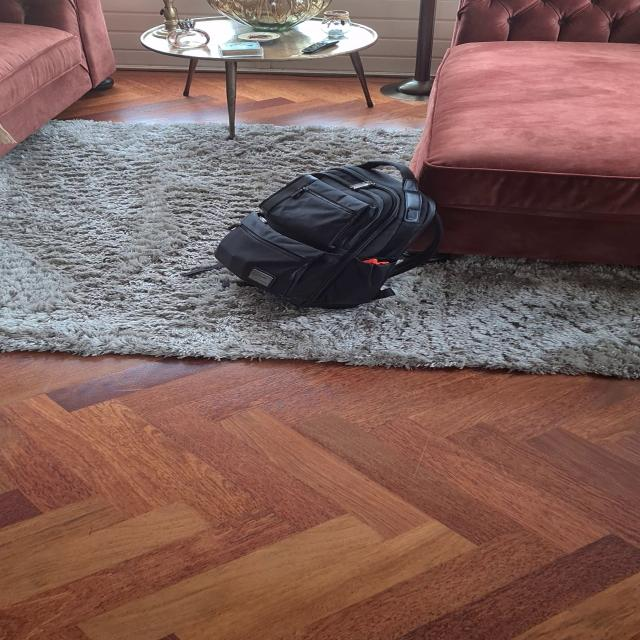backpack: (205, 154, 455, 315)
